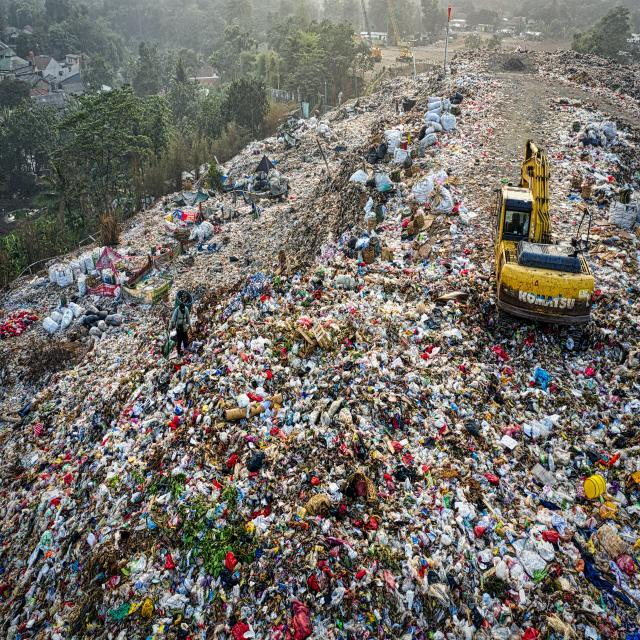trash: (185, 210, 467, 563)
